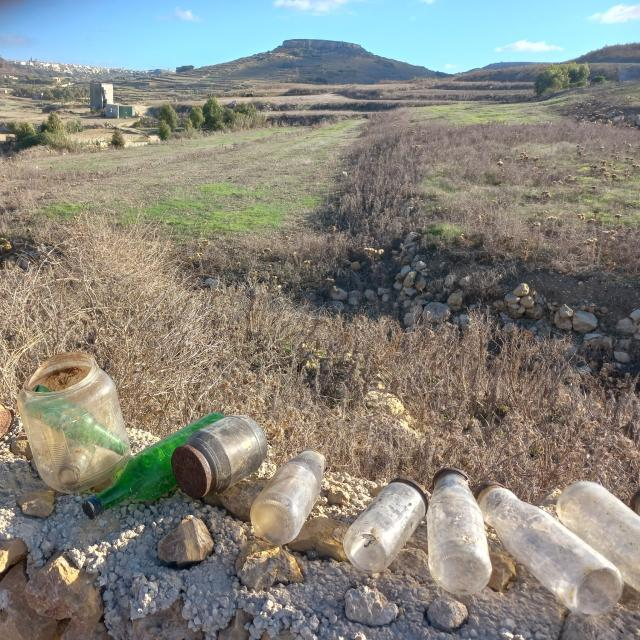Bottle: (472, 479, 626, 619), (13, 350, 130, 498), (84, 410, 226, 521), (555, 480, 640, 595), (425, 467, 494, 596), (342, 478, 431, 575), (172, 415, 269, 498), (23, 383, 129, 456), (250, 448, 326, 545)
Can: (59, 441, 96, 487)
Other litter: (630, 490, 640, 516)
